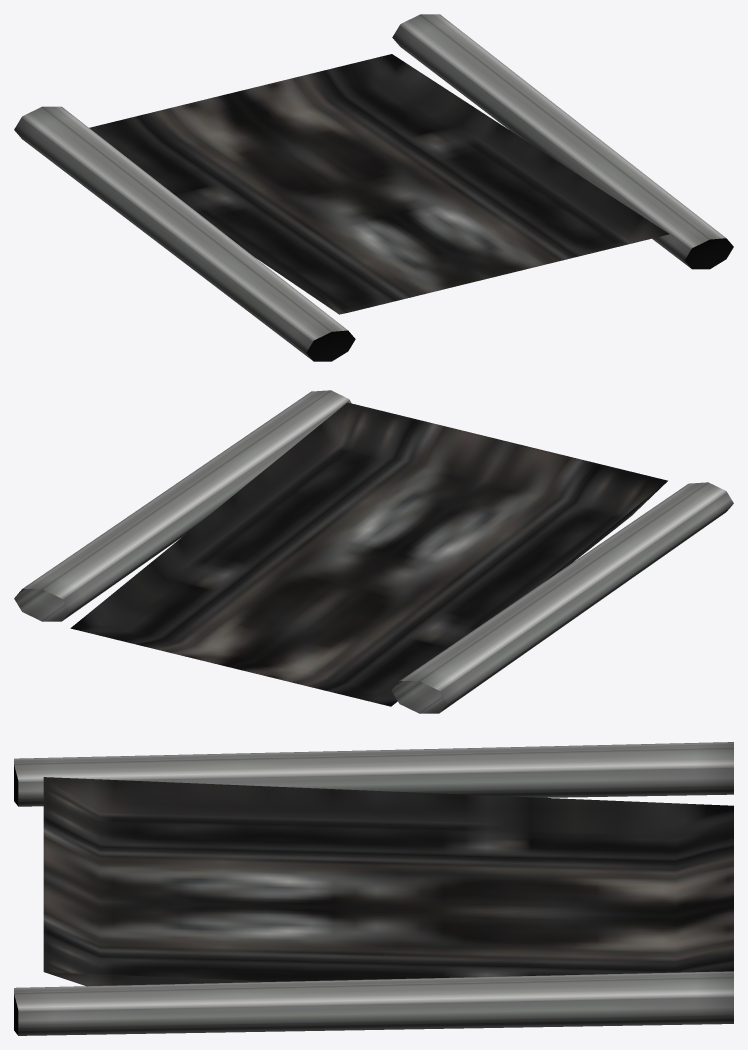
The model's file is exh_lr_sv2.glb.
3 renders of one model, top to bottom at view 1: azimuth 30°, elevation 25°; view 2: azimuth 150°, elevation 25°; view 3: azimuth 270°, elevation 25°, orthographic. The views are drawn at different scales.
Visible parts, largest first — view 1: exh_lr_sv2; view 2: exh_lr_sv2; view 3: exh_lr_sv2.
Part boxes in pixels (x1=…): exh_lr_sv2: x1=14, y1=14, x2=733, y2=361; exh_lr_sv2: x1=14, y1=390, x2=733, y2=713; exh_lr_sv2: x1=14, y1=742, x2=733, y2=1035.
Size of the model in its own units: 1.45 by 0.1369 by 1.67.
Materials: 1 (1 with a texture image).
